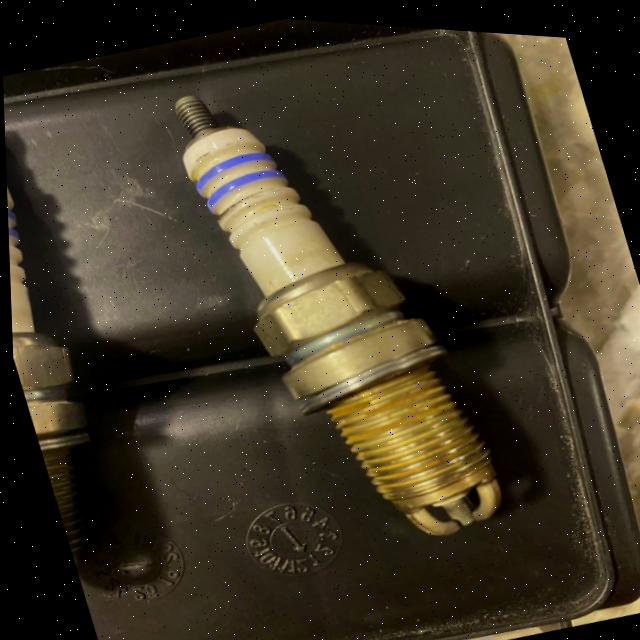spark-plug: (122, 31, 523, 586)
